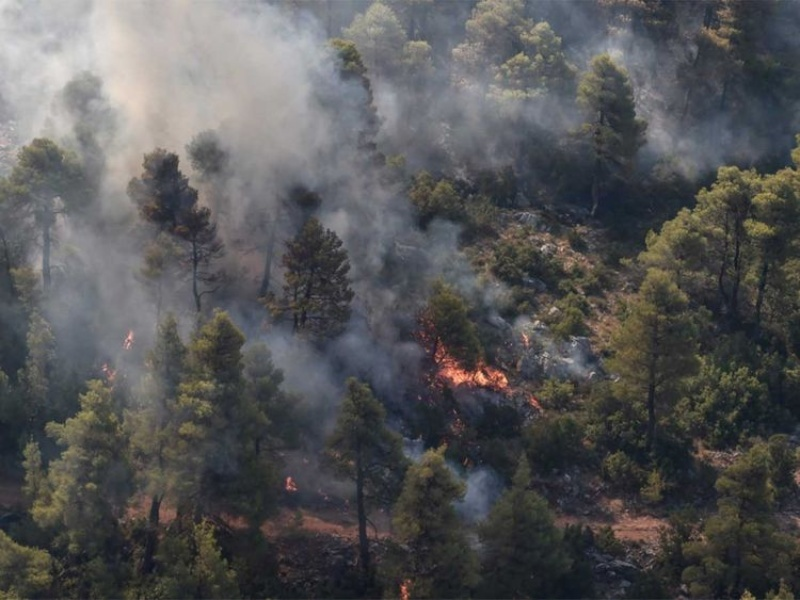smoke: (1, 1, 438, 250)
